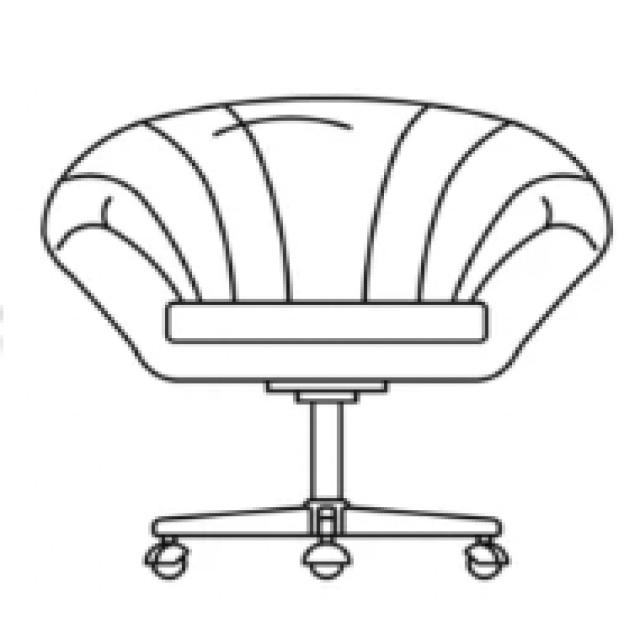5_Star_Base: (134, 491, 521, 589)
Armrest: (439, 166, 629, 337), (40, 177, 201, 340)
Backrest: (66, 95, 586, 304)
Base: (253, 370, 400, 508)
Caster_Wheel: (455, 527, 515, 585), (297, 532, 357, 587), (138, 529, 195, 586)
Seat: (158, 294, 495, 349)
